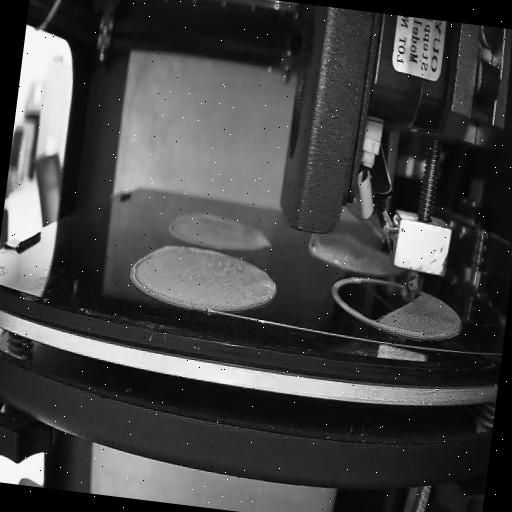over_extrusion: (127, 248, 149, 293)
